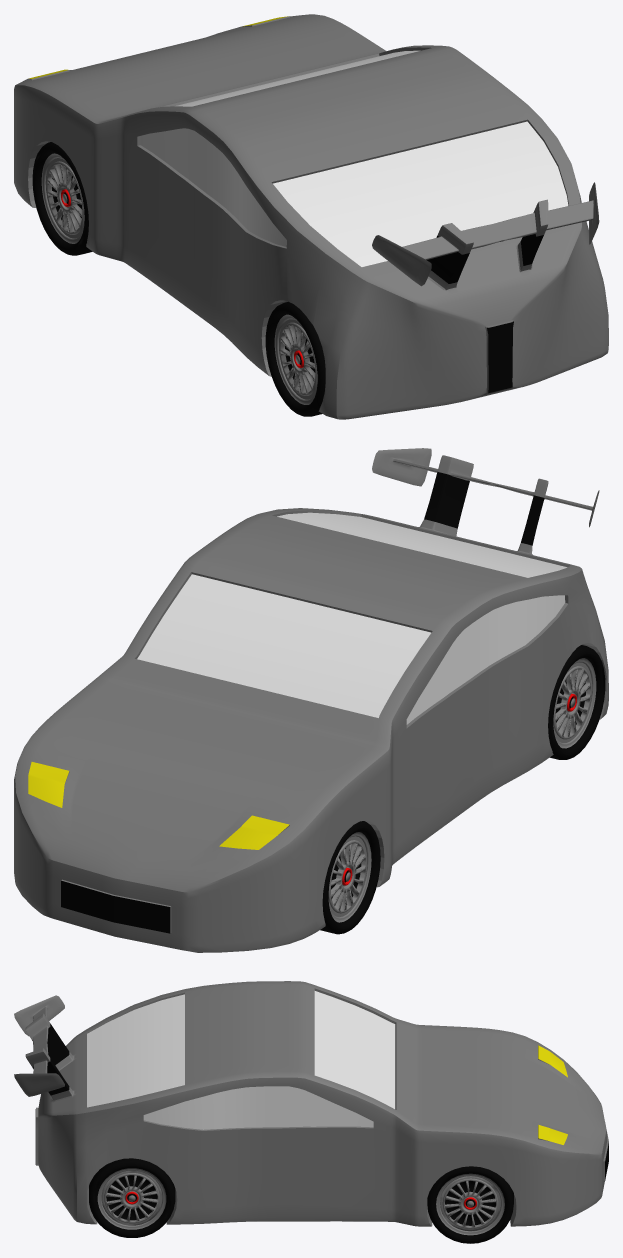
The model's file is deportivo.fbx.
The picture shows the model from 3 angles, top to bottom: view 1: azimuth 30°, elevation 25°; view 2: azimuth 150°, elevation 25°; view 3: azimuth 270°, elevation 25°; orthographic projection. The views are drawn at different scales.
Parts seen in each view (by area): view 1: Plane.001, Circle.002, Circle.001; view 2: Plane.001, Circle.002, Circle.001; view 3: Plane.001, Circle.004, Circle.003.
Boxes of the visible parts, x1,y1,x2,y2 form: Plane.001: (14,14,608,419); Circle.002: (265,301,325,416); Circle.001: (32,142,92,255); Plane.001: (14,448,608,952); Circle.002: (548,645,605,759); Circle.001: (320,821,380,934); Plane.001: (14,981,608,1226); Circle.004: (89,1158,175,1237); Circle.003: (427,1166,513,1243).
Bounding box in the file's own units: 200 × 144 × 472.
